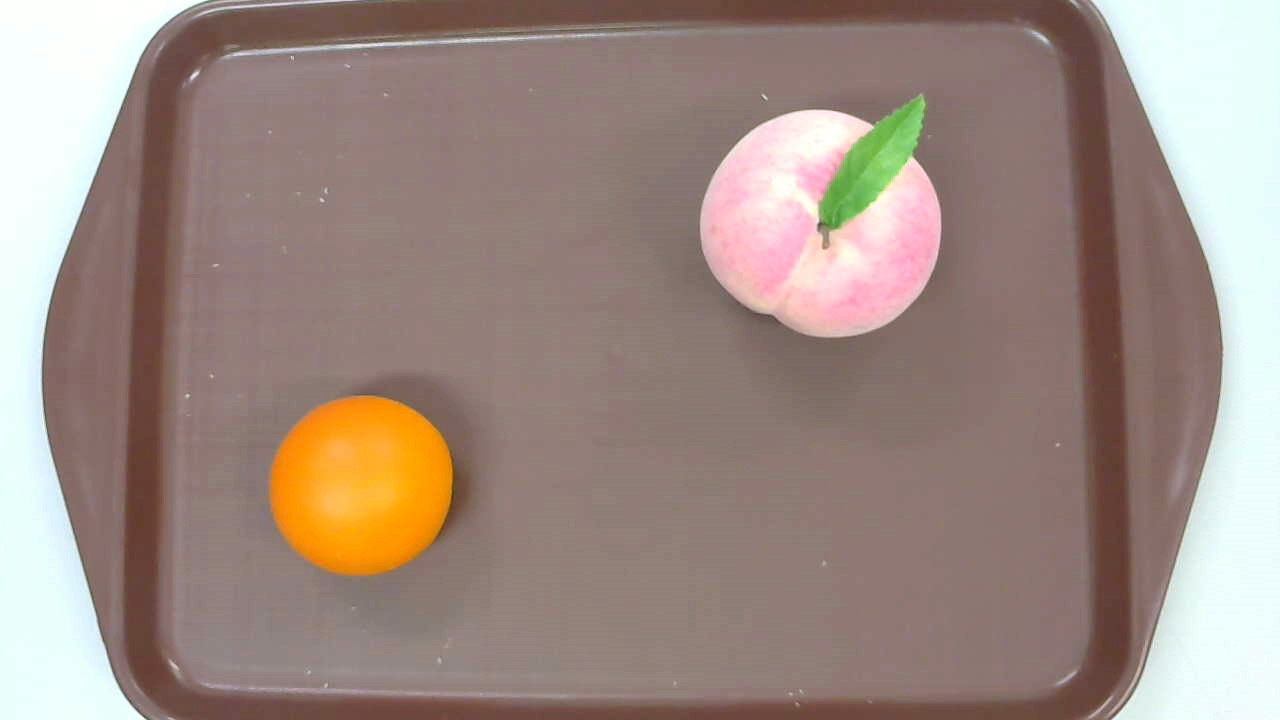bun: (269, 393, 451, 578)
peach: (699, 94, 942, 338)
